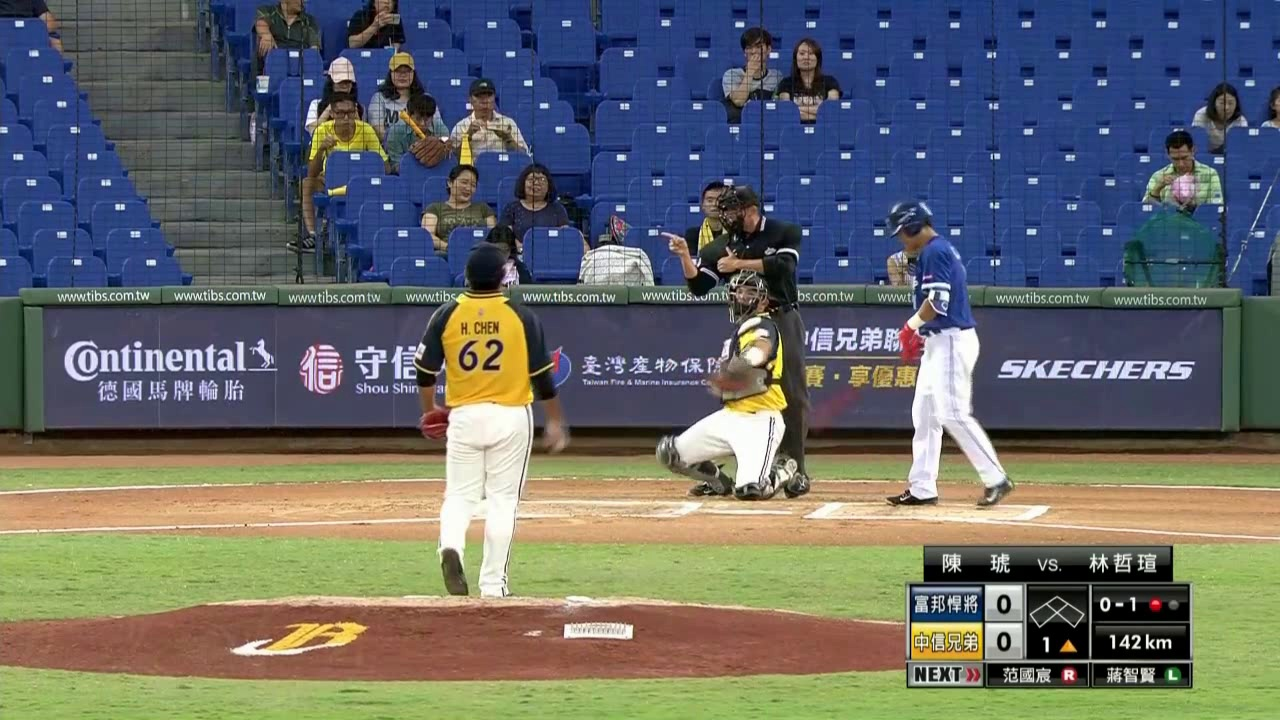base: (1029, 590, 1090, 633)
bat: (808, 352, 907, 428)
out: (1144, 592, 1182, 614)
score1: (991, 591, 1019, 618)
score2: (991, 628, 1021, 658)
session: (1027, 634, 1088, 658)
speed: (1100, 627, 1193, 656)
strikeball: (1094, 588, 1140, 616)
